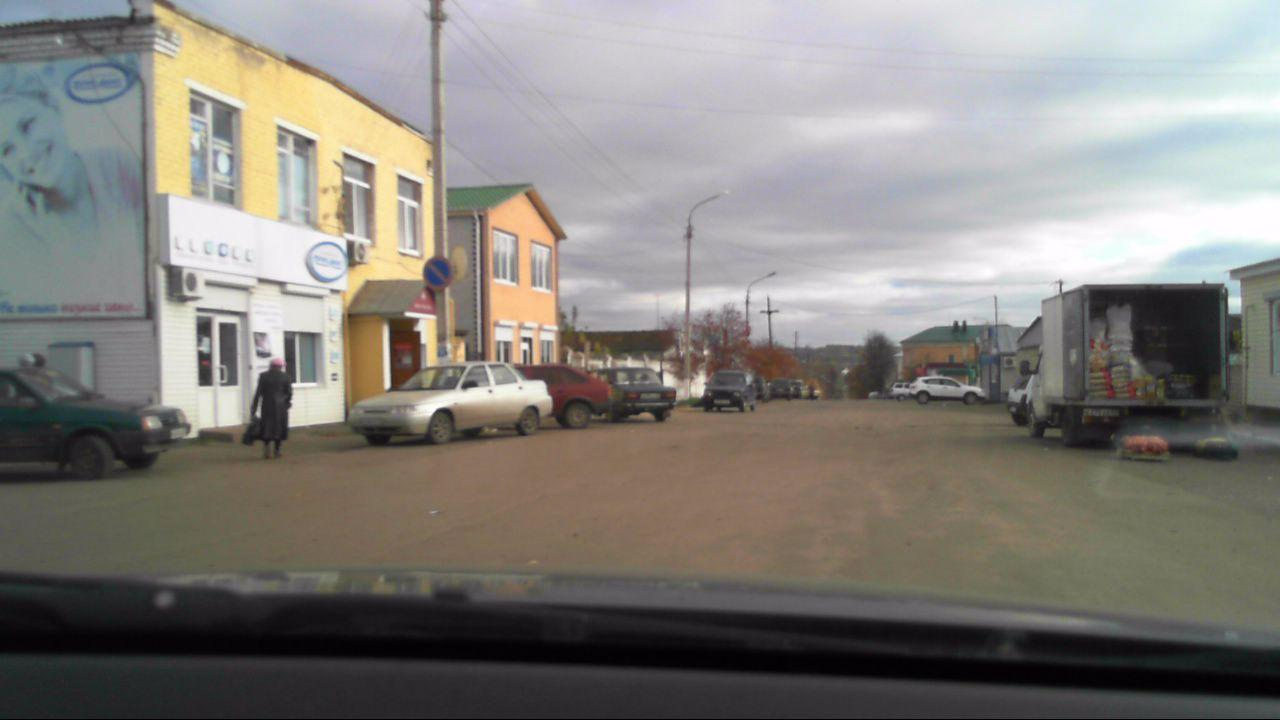3_28: (419, 254, 457, 294)
